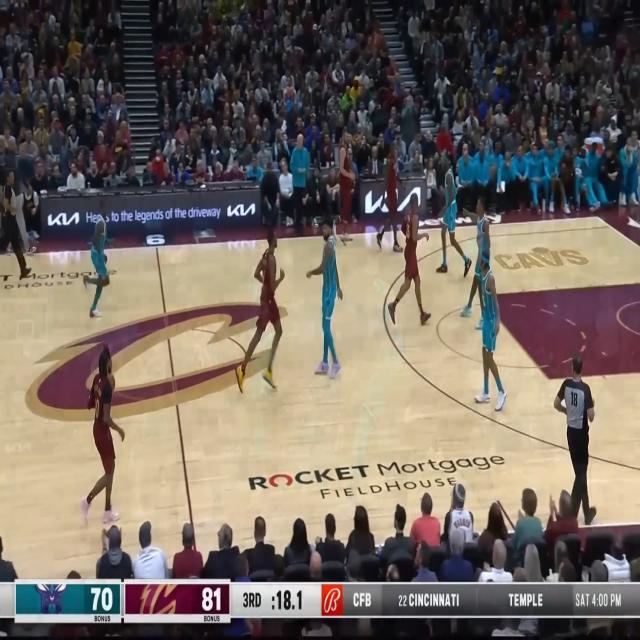Player: (78, 344, 126, 530), (235, 228, 285, 395), (306, 216, 344, 384), (387, 190, 433, 328), (474, 246, 508, 414), (436, 150, 473, 280), (83, 193, 116, 320), (461, 194, 491, 329), (375, 136, 405, 254), (337, 127, 357, 244)
Ref: (554, 351, 596, 526), (0, 167, 33, 281)
